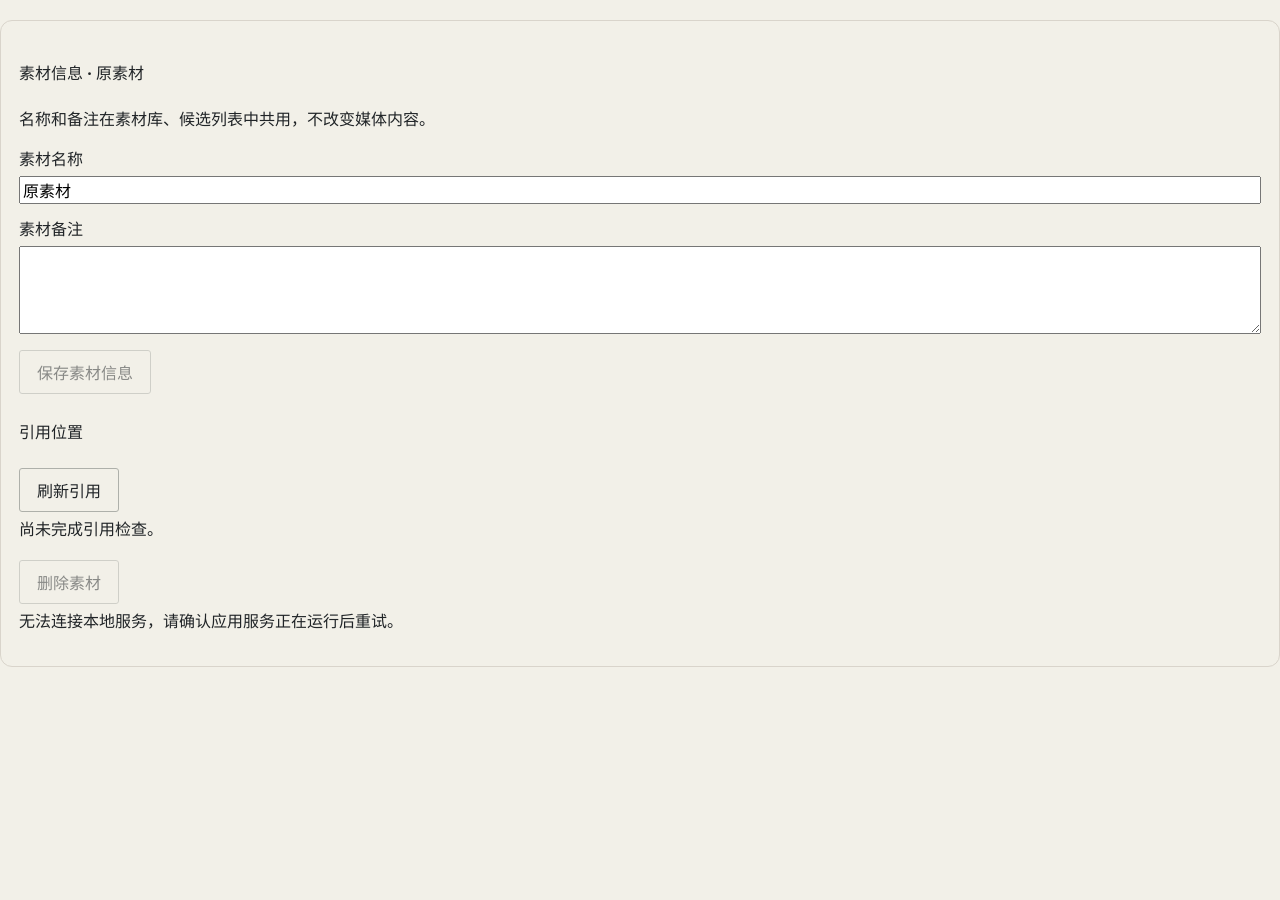
Scenario: 引用读取失败时不开放删除且可重试
The image size is (1280, 900).
Expected: the message "无法连接本地服务，请确认应用服务正在运行后重试。" is shown, [19,610,403,632]
Expected: the button "删除素材" is disabled, [19,560,119,604]
Step 1. Click the button "刷新引用" → x=69, y=490, box [19,468,119,512]
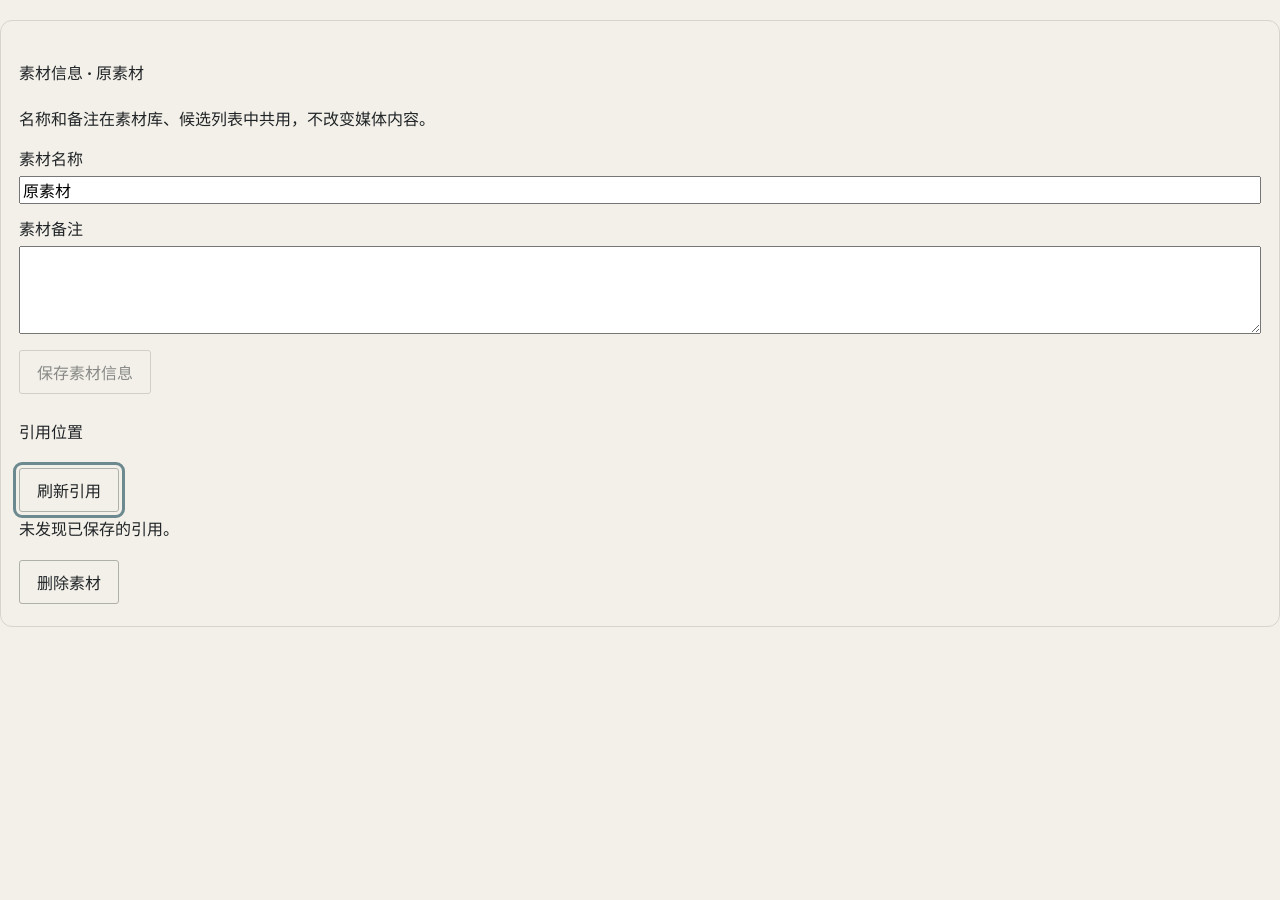
Now the text "未发现已保存的引用。" is shown, box [19,518,179,540]
Now the button "删除素材" is enabled, box [19,560,119,604]
